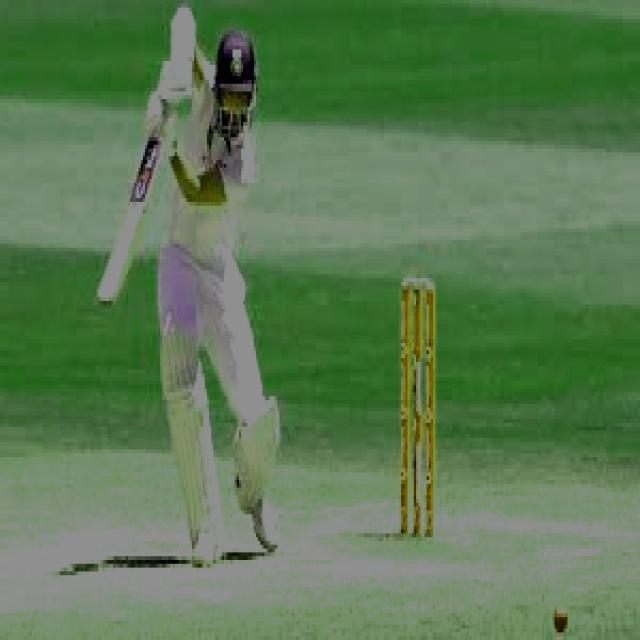bat: (96, 142, 159, 309)
toe: (93, 295, 117, 309)
